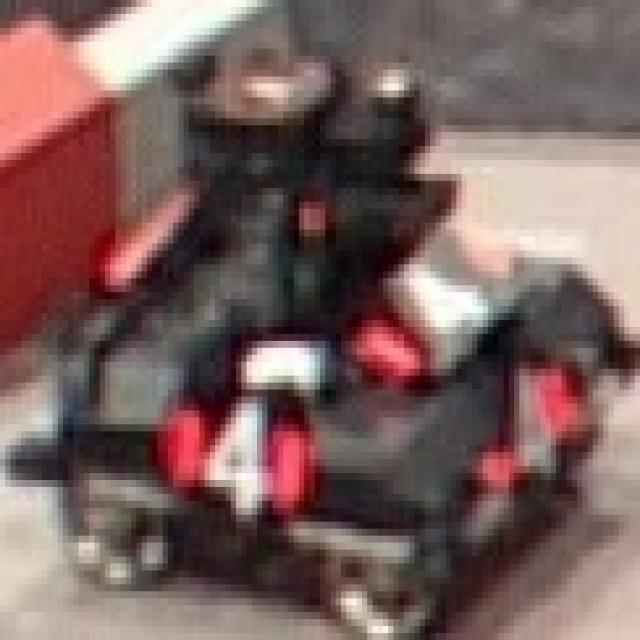R4: (163, 396, 304, 515), (478, 355, 582, 501)
